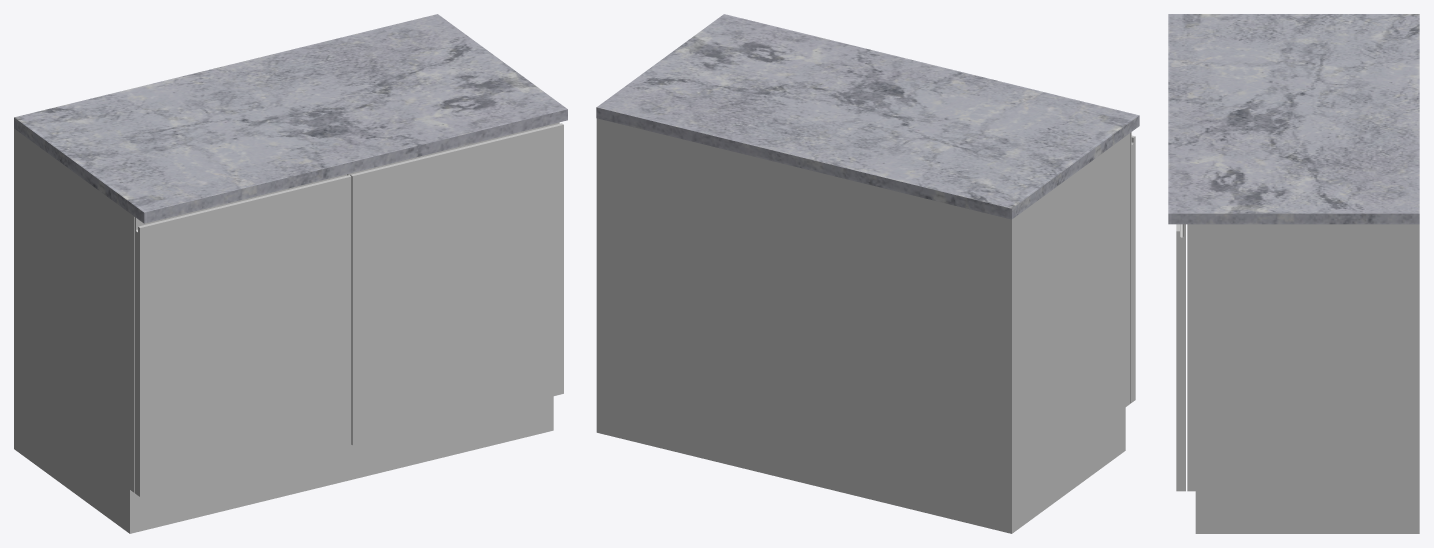
File: kitchen_unit_1200.glb
3 views of the same model, side by side, from view 1: azimuth 30°, elevation 25°; view 2: azimuth 150°, elevation 25°; view 3: azimuth 270°, elevation 25° (orthographic). The views are drawn at different scales.
Visible parts, largest first — view 1: Geom3D (×2); view 2: Geom3D (×2); view 3: Geom3D (×2).
Part boxes in pixels (bbox=[...]): Geom3D (×2): bbox=[14, 14, 567, 533]; Geom3D (×2): bbox=[596, 14, 1139, 533]; Geom3D (×2): bbox=[1168, 14, 1419, 533].
Bounding box in the file's own units: 1.2 × 0.9 × 0.6401.
Materials: 2 (1 with a texture image).
